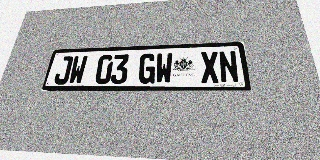0: (94, 55, 114, 84)
3: (110, 54, 129, 84)
G: (138, 53, 156, 84)
J: (53, 56, 74, 84)
N: (218, 51, 240, 83)
W: (68, 56, 88, 84), (155, 53, 173, 84)
X: (200, 51, 220, 83)
